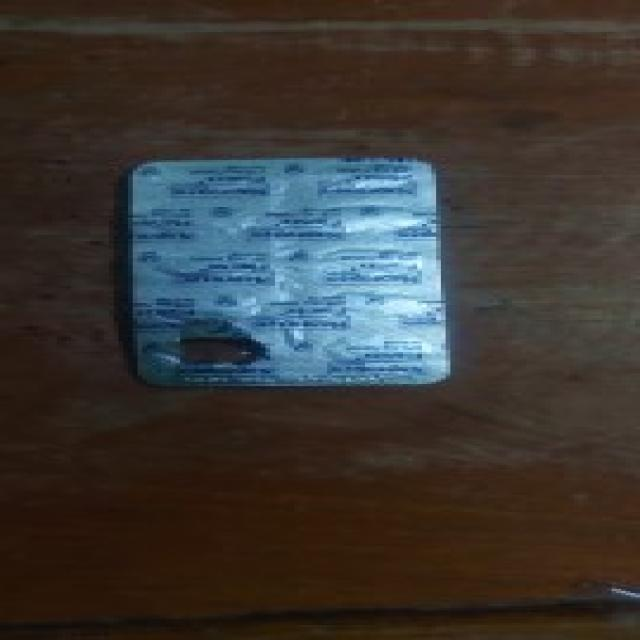Cacat: (124, 154, 457, 386)
Kemasan: (168, 328, 284, 372)
